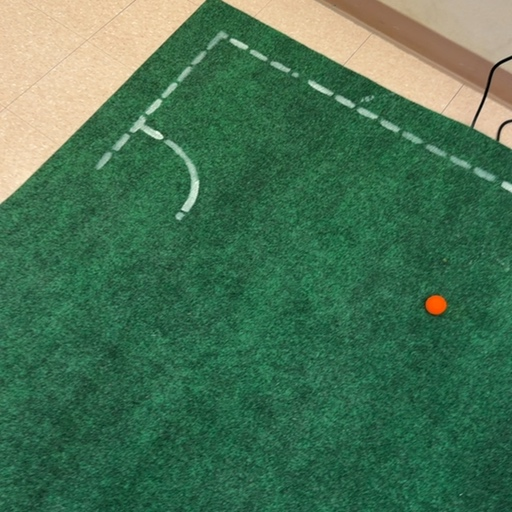Ball: (425, 295, 446, 314)
